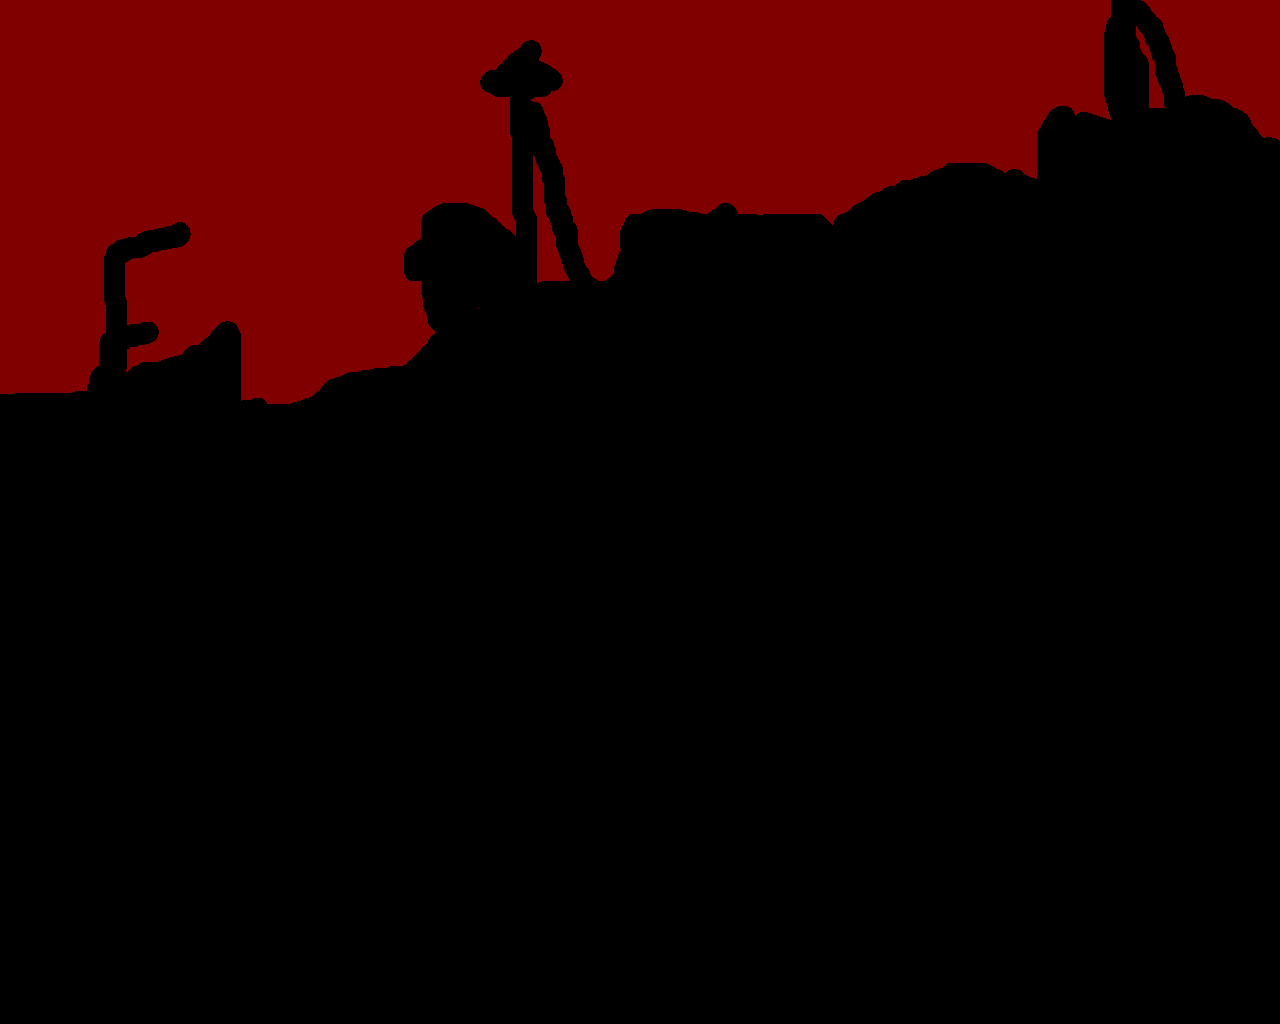Sky: (1, 1, 1279, 404)
